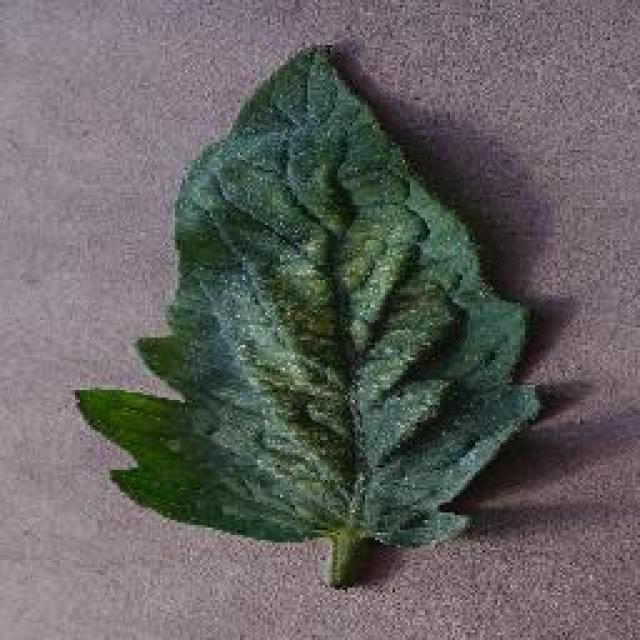Tomato mosaic virus leaf: (74, 50, 546, 582)
